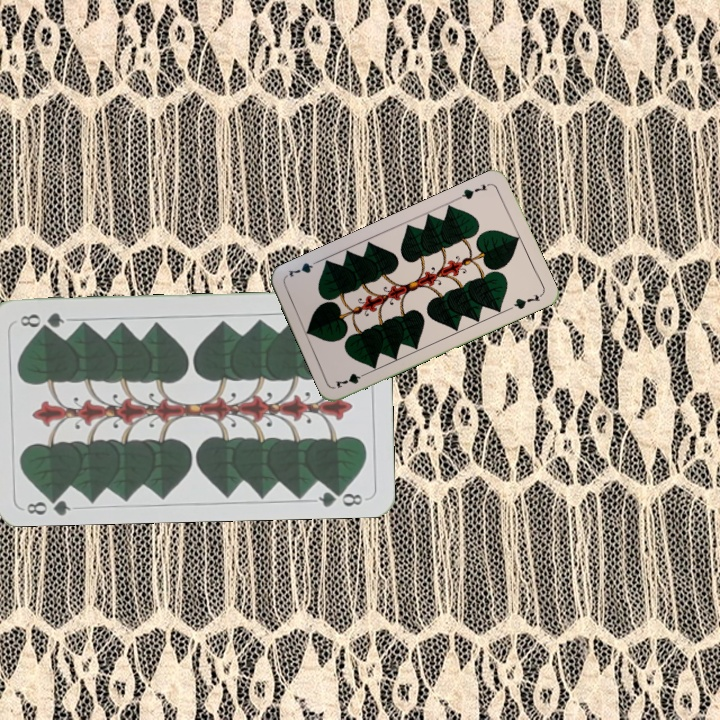G7: (332, 368, 371, 391), (454, 179, 493, 202)
G8: (23, 490, 73, 517)
